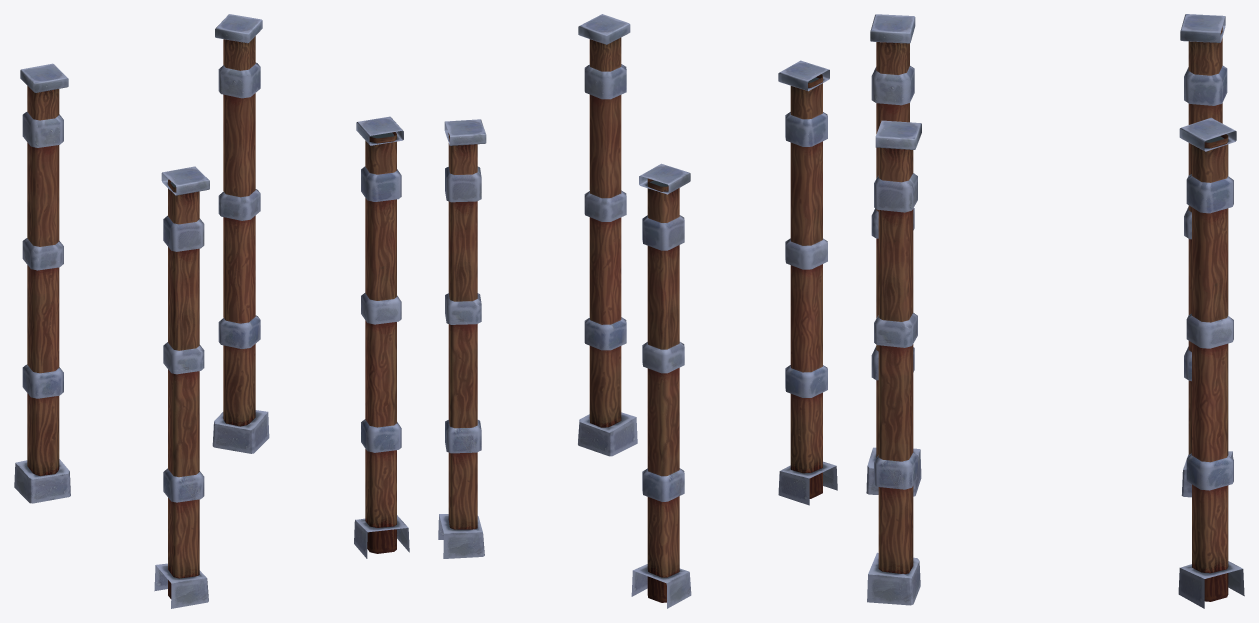
Rendered from Pillars.fbx.
The picture shows the model from 3 angles, left to right: view 1: azimuth 30°, elevation 25°; view 2: azimuth 150°, elevation 25°; view 3: azimuth 270°, elevation 25°; orthographic projection. The views are drawn at different scales.
Parts seen in each view (by area): view 1: Pillar, Pillar1, Pillar2, Pillar3; view 2: Pillar3, Pillar2, Pillar1, Pillar; view 3: Pillar, Pillar3, Pillar2, Pillar1.
Part boxes in pixels (x1=…): Pillar: x1=212, y1=14, x2=269, y2=453; Pillar1: x1=14, y1=63, x2=70, y2=503; Pillar2: x1=154, y1=166, x2=209, y2=608; Pillar3: x1=354, y1=116, x2=409, y2=558; Pillar3: x1=578, y1=14, x2=637, y2=456; Pillar2: x1=778, y1=60, x2=837, y2=505; Pillar1: x1=631, y1=163, x2=691, y2=608; Pillar: x1=438, y1=119, x2=486, y2=558; Pillar: x1=1178, y1=117, x2=1244, y2=608; Pillar3: x1=867, y1=120, x2=921, y2=605; Pillar2: x1=866, y1=14, x2=921, y2=496; Pillar1: x1=1180, y1=14, x2=1233, y2=497.
Bounding box in the file's own units: 591 × 955 × 704.
